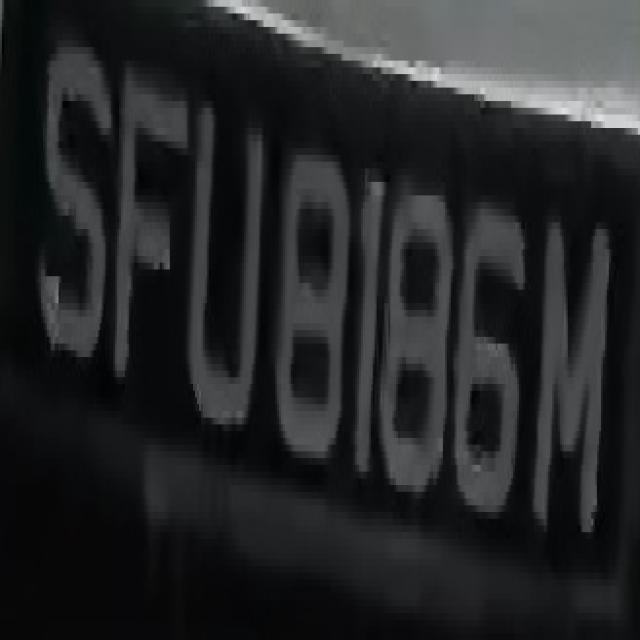1: (351, 168, 390, 506)
6: (453, 175, 527, 519)
8: (271, 128, 351, 465), (380, 148, 454, 505)
F: (117, 34, 187, 377)
M: (538, 182, 618, 552)
S: (43, 34, 115, 377)
U: (188, 61, 268, 472)
